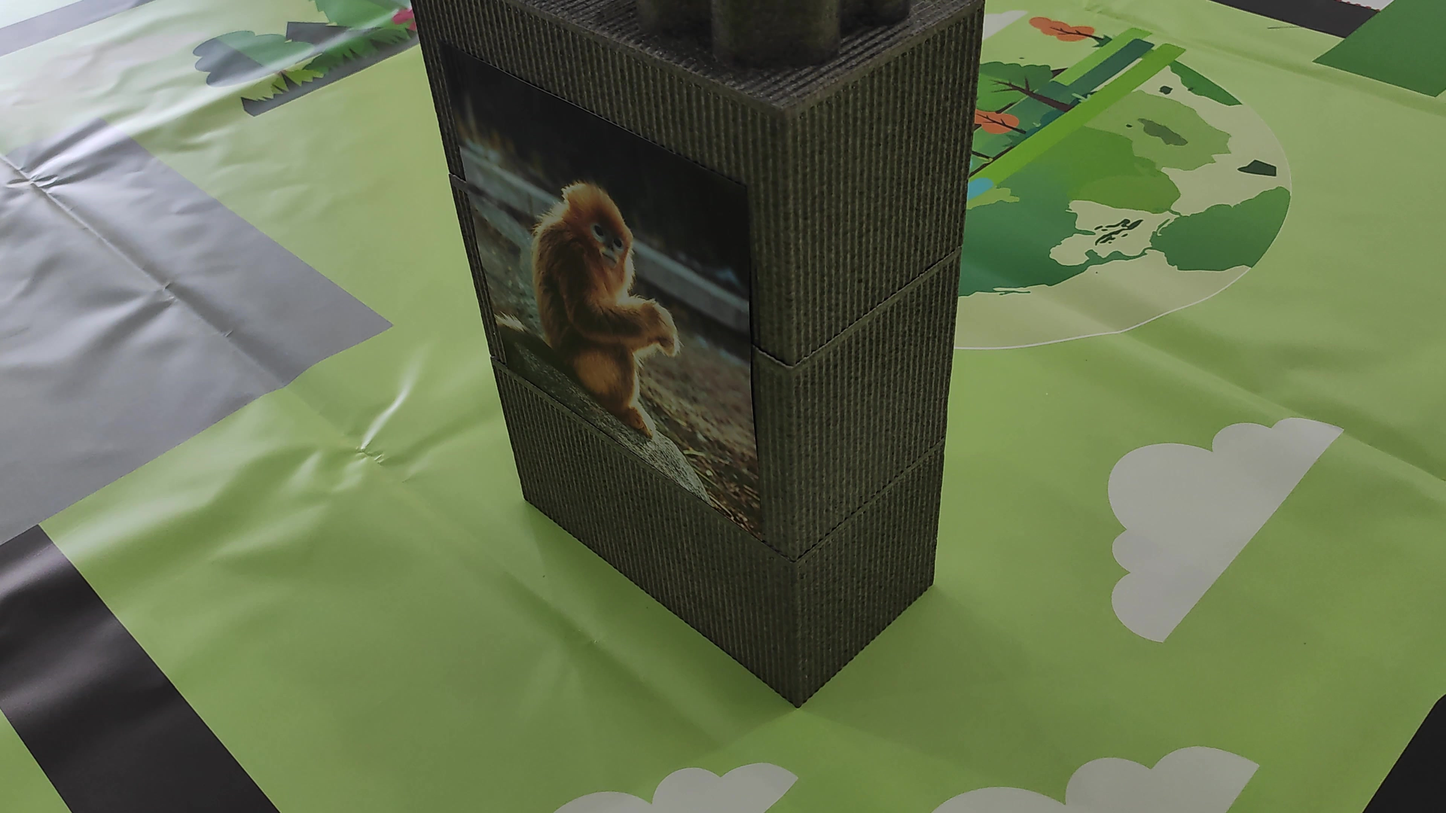monkey: (480, 127, 706, 457)
